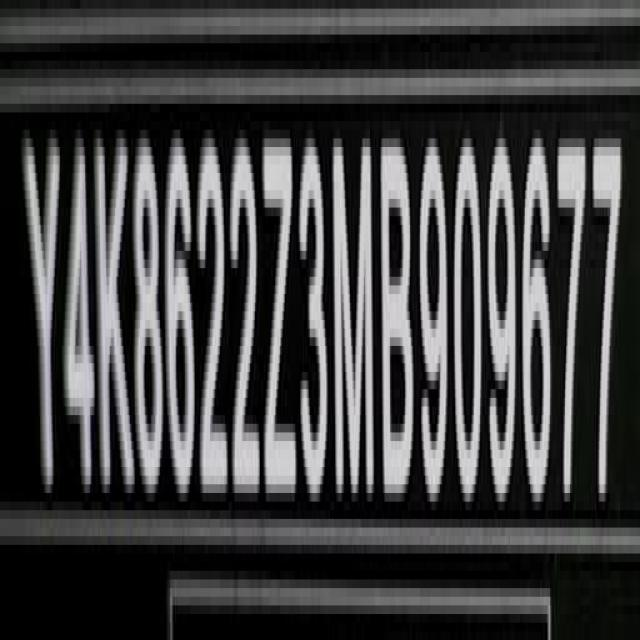0: (451, 118, 482, 515)
2: (200, 118, 231, 514), (230, 111, 260, 518)
3: (300, 128, 331, 506)
4: (60, 111, 94, 508)
6: (165, 118, 198, 510), (522, 124, 554, 516)
7: (555, 122, 588, 520), (592, 113, 624, 507)
8: (134, 111, 166, 512)
9: (486, 125, 521, 516), (417, 118, 451, 511)
B: (379, 124, 414, 508)
K: (96, 109, 135, 508)
M: (334, 125, 378, 511)
Y: (22, 114, 62, 512)
Z: (264, 125, 298, 515)
